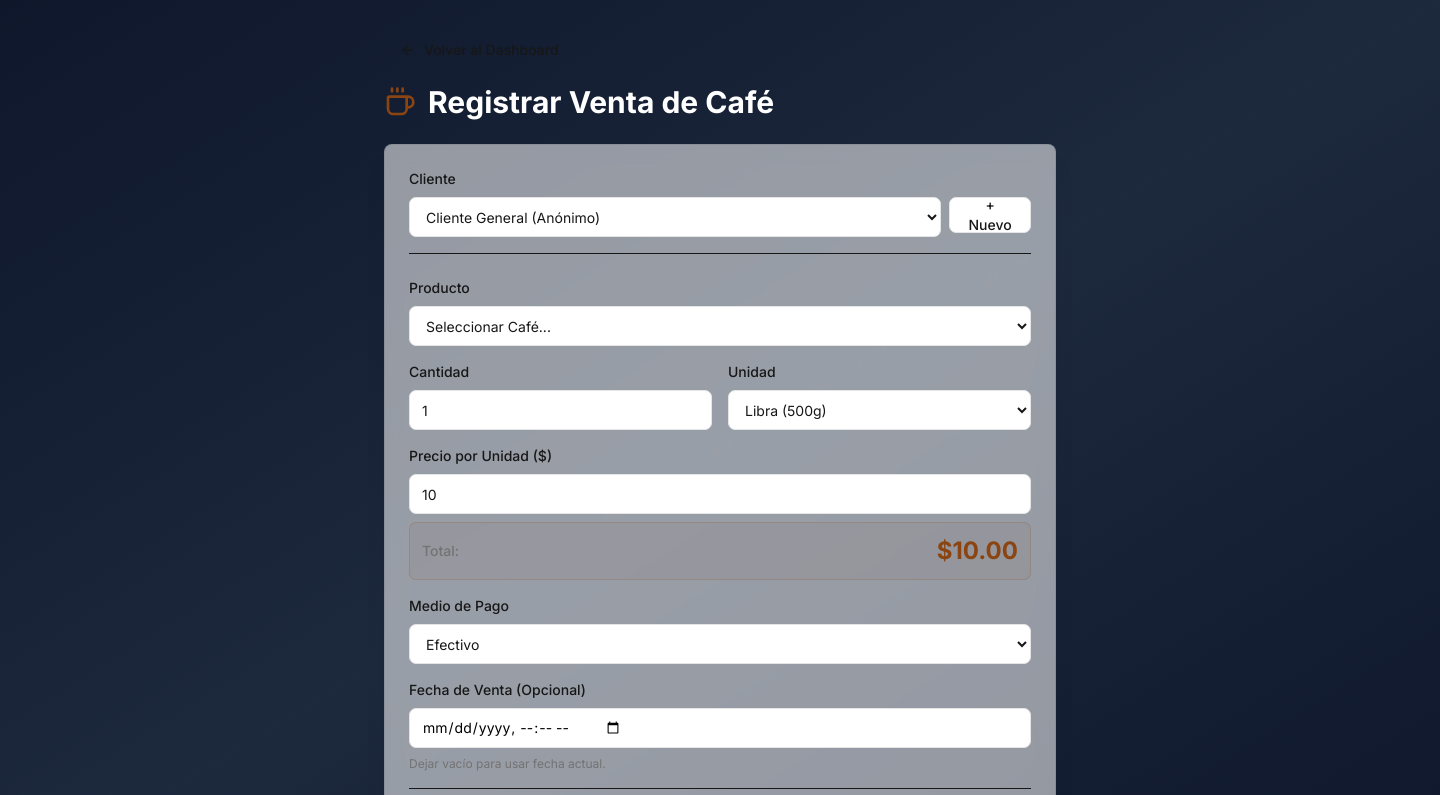
NuevaVentaPage › Customer Selection › should show new customer form when "+ Nuevo" clicked
Click the button "+ Nuevo" at (990, 215), box [949, 197, 1031, 233]
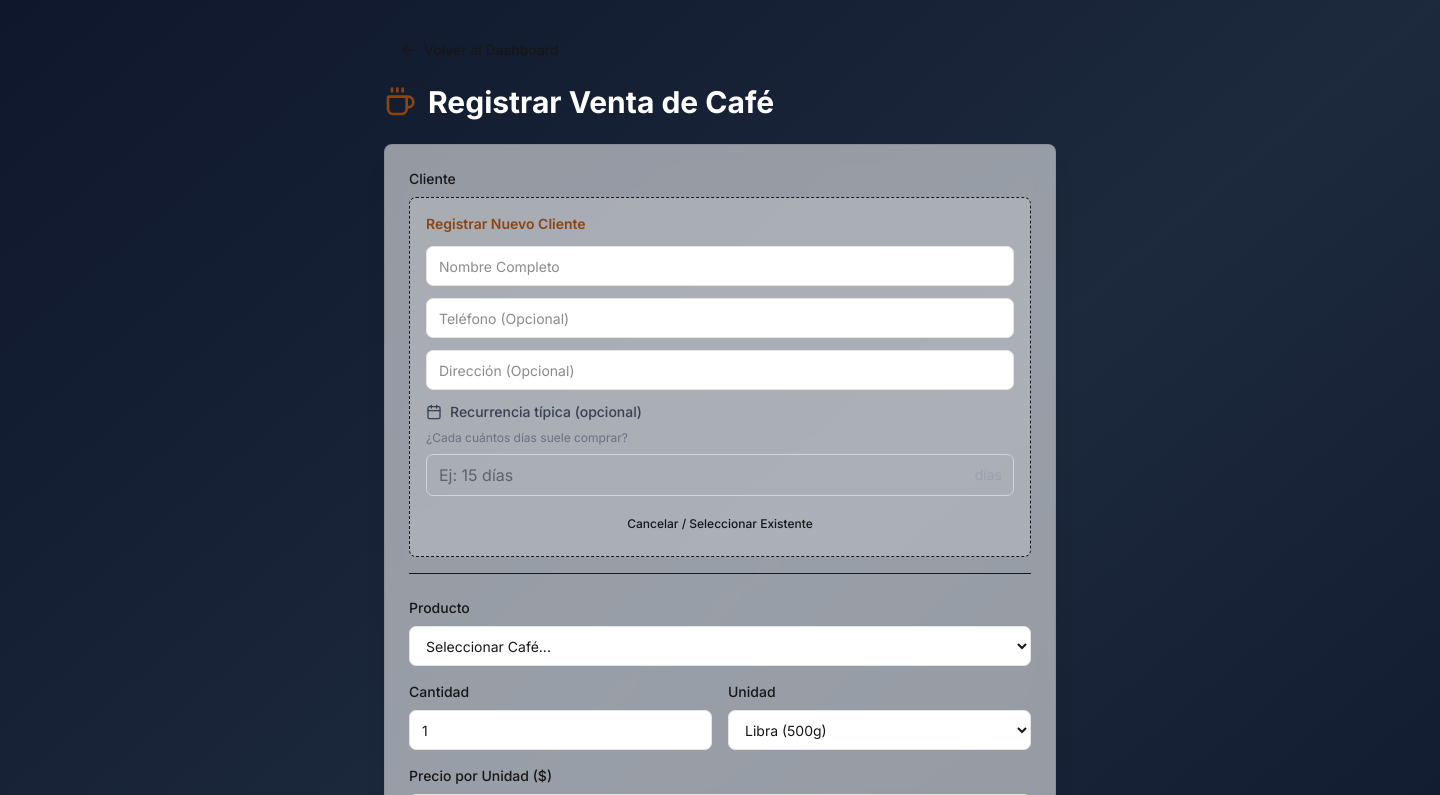
expect the text "Registrar Nuevo Cliente" is shown: met, box [426, 215, 586, 232]
expect the field with placeholder "Nombre Completo" is shown: met, box [426, 246, 1014, 286]
expect the field with placeholder "Teléfono (Opcional)" is shown: met, box [426, 298, 1014, 338]
